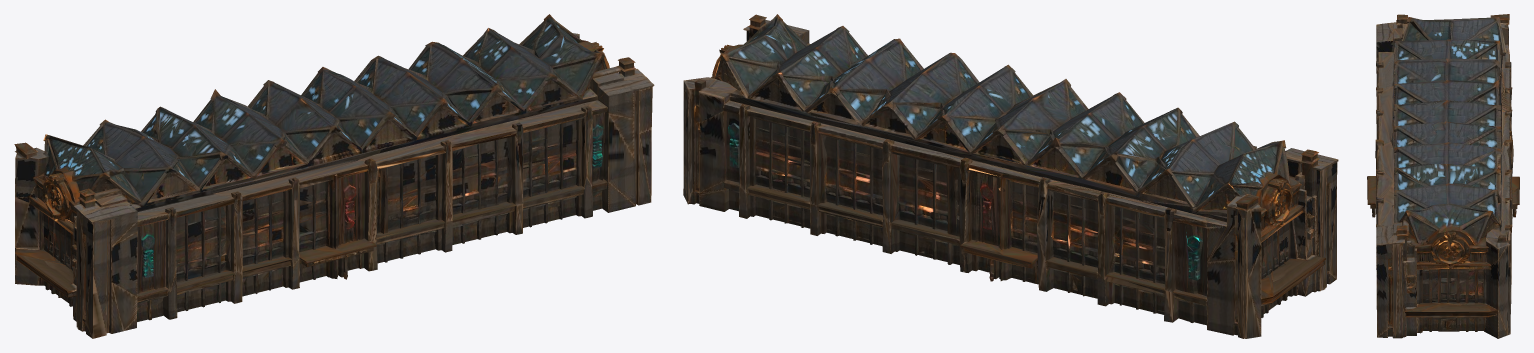
3 views of the same model, side by side, from view 1: azimuth 30°, elevation 25°; view 2: azimuth 150°, elevation 25°; view 3: azimuth 270°, elevation 25° (orthographic). The views are drawn at different scales.
Parts seen in each view (by area): view 1: h03; view 2: h03; view 3: h03.
Boxes of the visible parts, x1=… form: h03: x1=14, y1=14, x2=654, y2=338; h03: x1=683, y1=14, x2=1338, y2=338; h03: x1=1367, y1=14, x2=1519, y2=338.
Bounding box in the file's own units: 73.82 × 18 × 21.16.
Materials: 1 (1 with a texture image).
